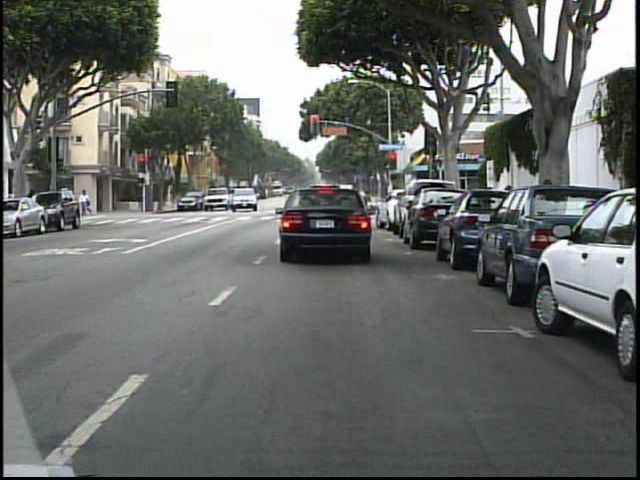person: (83, 187, 98, 219), (80, 188, 93, 217)
